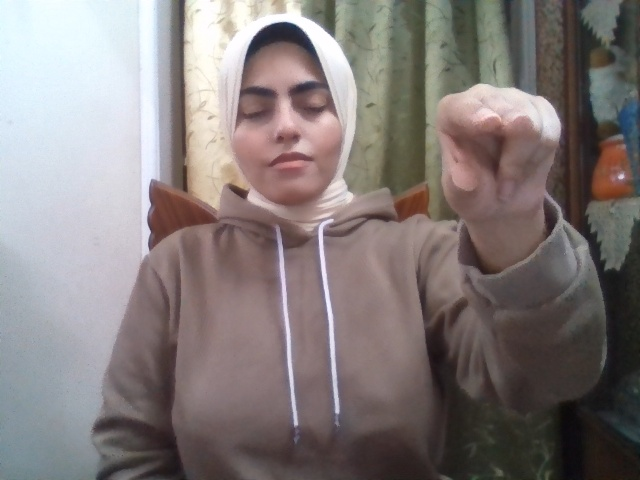no: (435, 82, 561, 226)
